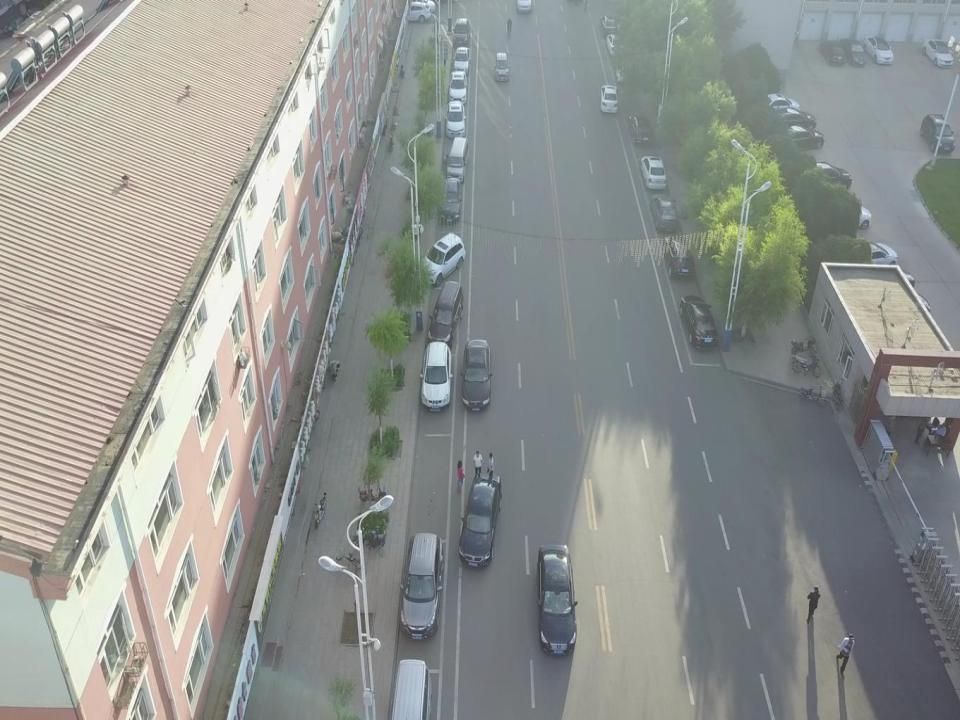car: (399, 533, 442, 638), (536, 545, 577, 655), (458, 474, 502, 566), (417, 230, 465, 288), (460, 339, 493, 411), (678, 293, 719, 348), (430, 282, 464, 348), (420, 342, 452, 410), (795, 160, 852, 195), (846, 238, 897, 276), (861, 266, 914, 298), (820, 200, 871, 233), (920, 113, 956, 154), (775, 124, 825, 153), (662, 236, 694, 280), (768, 106, 816, 134), (882, 293, 930, 319), (757, 92, 799, 120), (439, 178, 462, 226), (650, 194, 678, 233), (922, 37, 953, 67), (444, 100, 467, 140), (864, 35, 894, 64), (641, 155, 666, 189), (393, 3, 432, 24), (839, 38, 865, 68), (819, 39, 846, 66), (448, 70, 468, 103), (629, 115, 651, 144), (452, 16, 471, 48), (600, 84, 619, 113), (454, 46, 471, 78), (404, 0, 436, 16), (598, 16, 618, 39), (614, 59, 630, 83), (607, 35, 623, 56)
van: (392, 660, 431, 720), (446, 137, 470, 186), (492, 52, 510, 81)
